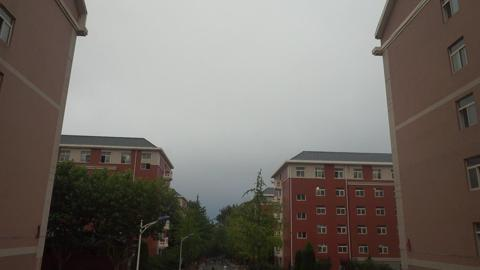UAV: (270, 180, 278, 184)
